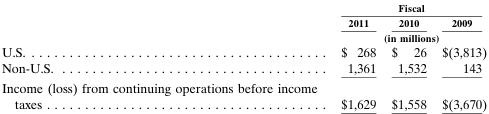table: (0, 0, 486, 110)
table column: (0, 0, 328, 110), (328, 0, 383, 110), (433, 0, 486, 110), (383, 0, 433, 110)
table column header: (0, 0, 486, 43)
table row: (0, 77, 486, 110), (0, 59, 486, 77), (0, 43, 486, 59), (0, 14, 486, 29), (0, 0, 486, 14), (0, 29, 486, 43)
table spanning cell: (328, 0, 486, 14), (328, 29, 486, 43)
